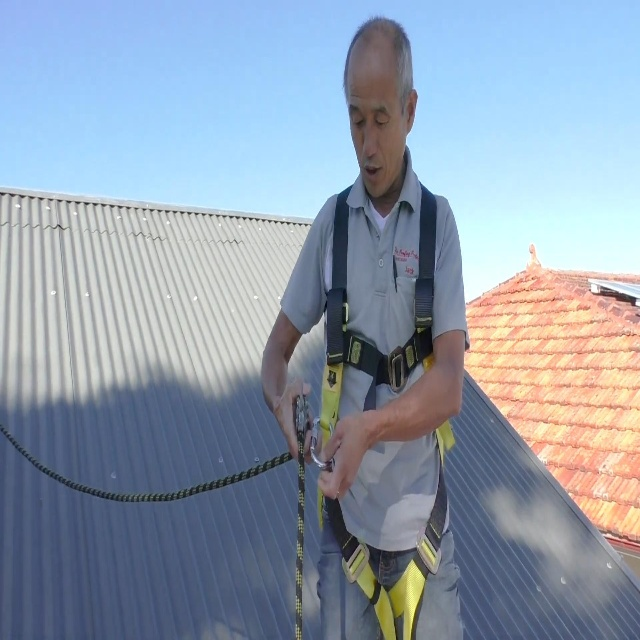Arnes_seguridad: (310, 174, 449, 640)
